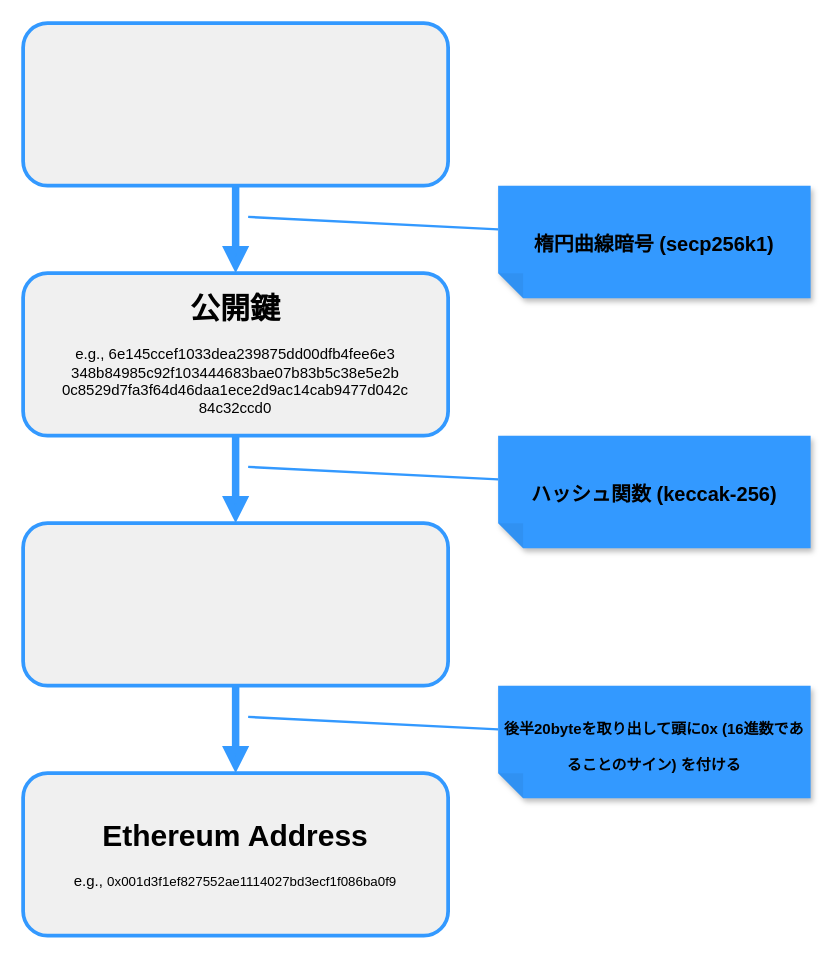
This 840x959 diagram has some shape labels left out. The centre of each missing label's shape, as x and y in pixels:
"公開鍵ハッシュ e.g., 2a5bc342ed616b5ba5732269001d3 f1ef827552ae1114027bd3ecf1f086ba0f9" belongs at (x=235, y=604).
"秘密鍵 e.g., f8f8a2f43c8376ccb0871305060d7b27b0554d2cc 72bccf41b2705608452f315" belongs at (x=235, y=104).
